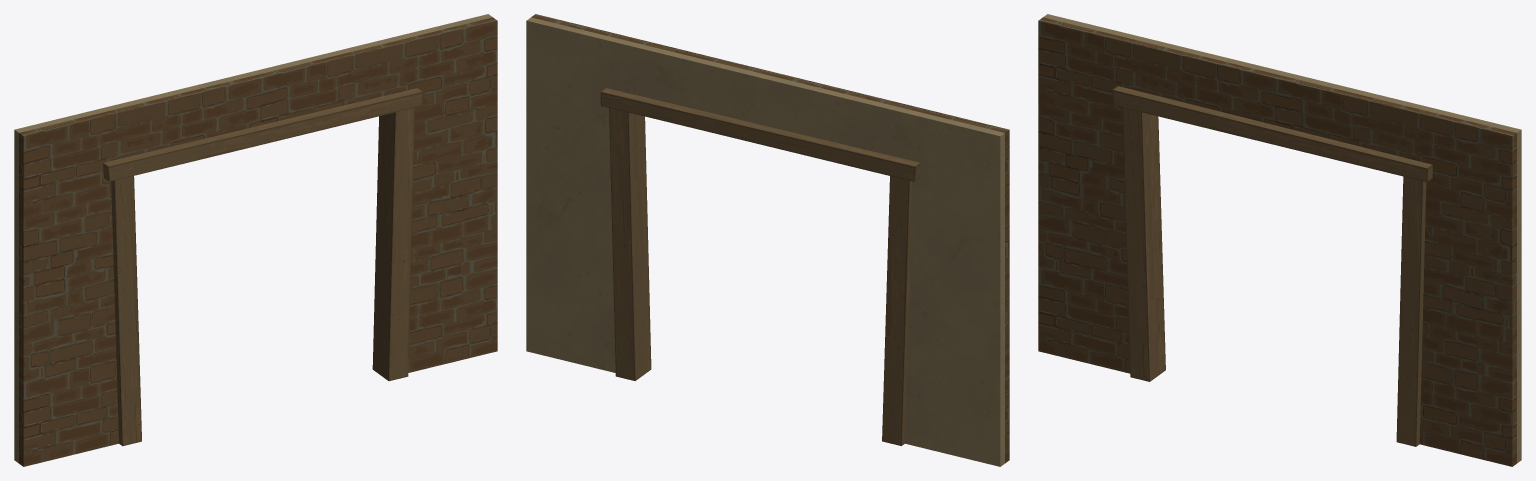
Rendered from SM_building_wall_24.glb.
The picture shows the model from 3 angles, left to right: view 1: azimuth 30°, elevation 25°; view 2: azimuth 150°, elevation 25°; view 3: azimuth 330°, elevation 25°; orthographic projection.
Visible parts, largest first — view 1: SM_building_wall_24; view 2: SM_building_wall_24; view 3: SM_building_wall_24.
Part boxes in pixels (x1,y1,x2,y2): SM_building_wall_24: [14, 14, 497, 466]; SM_building_wall_24: [526, 14, 1009, 466]; SM_building_wall_24: [1038, 14, 1521, 466].
Size of the model in its own units: 6 by 4 by 0.4362.
3 materials, 3 textured.
